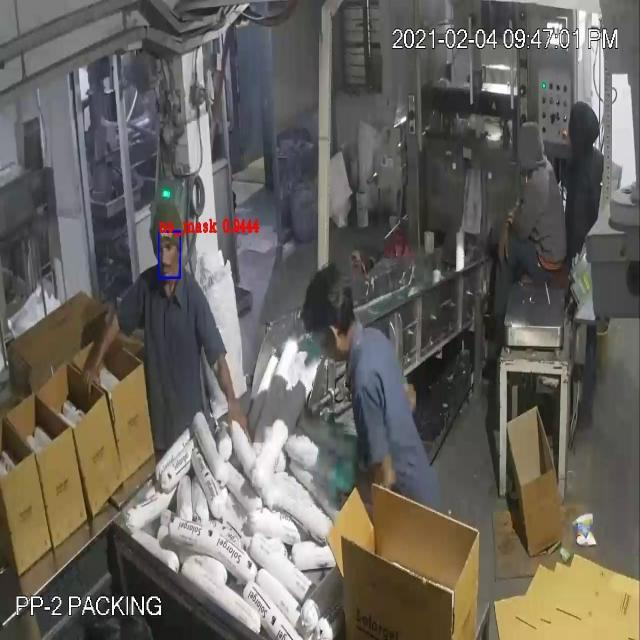No_Gloves: (57, 96, 230, 391)
